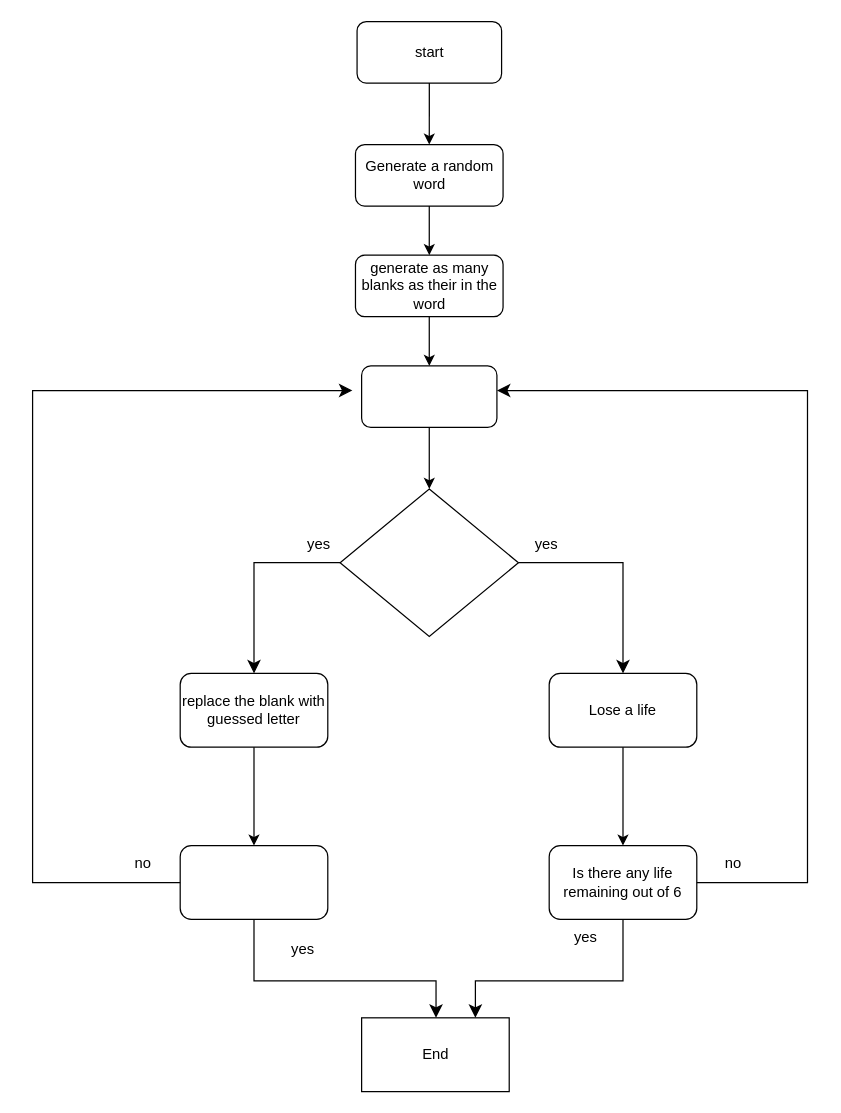
Some shapes in this 841 by 1113 pixel diagram are drawn without their labels. Here are the shapes that lost their labels. From the top down, the box of each, then its label:
(360, 365, 497, 427): Ask the user to guess the letter
(339, 488, 518, 637): user guessed the correct word ?
(179, 844, 328, 919): Are the blanks filled ?
